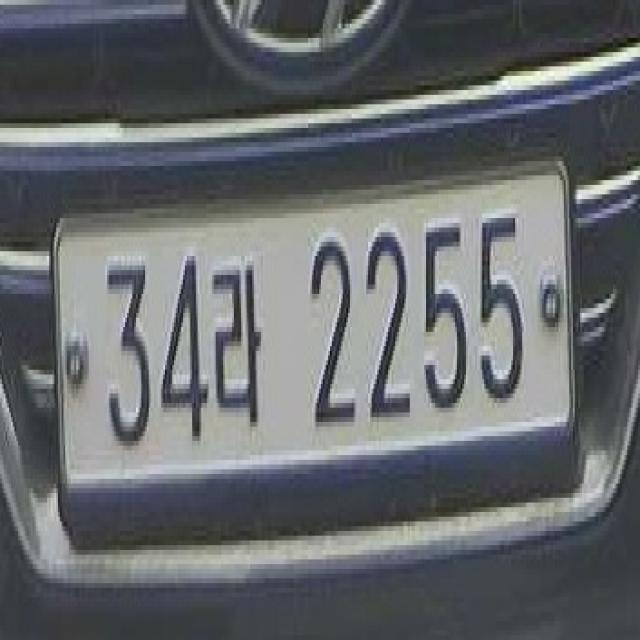2: (363, 227, 415, 422), (312, 233, 359, 432)
3: (100, 242, 152, 450)
4: (154, 256, 210, 441)
5: (419, 214, 468, 418), (477, 204, 524, 408)
la: (210, 260, 263, 427)
license_plate: (51, 161, 578, 507)
